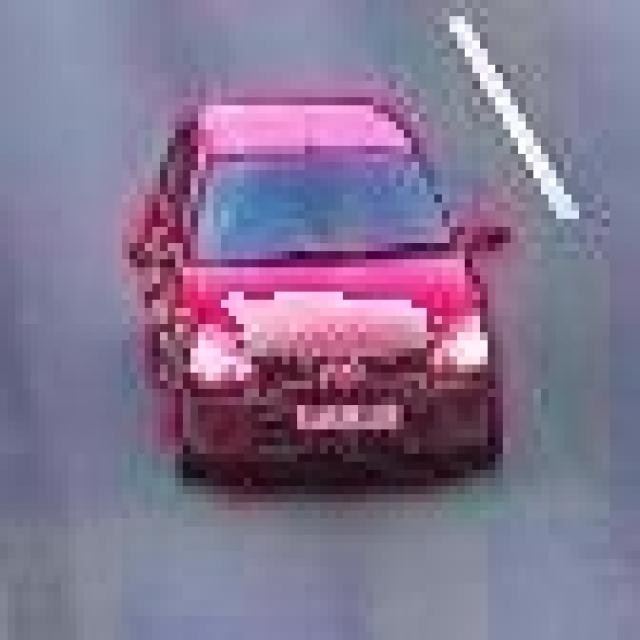maroon: (145, 97, 495, 478)
